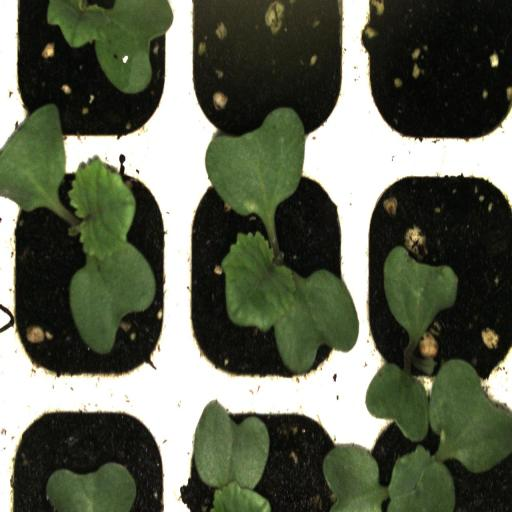noseedling: (176, 1, 355, 152), (355, 0, 512, 149)
seedling: (177, 150, 355, 393), (3, 150, 175, 392), (355, 152, 512, 394), (355, 390, 512, 512)
